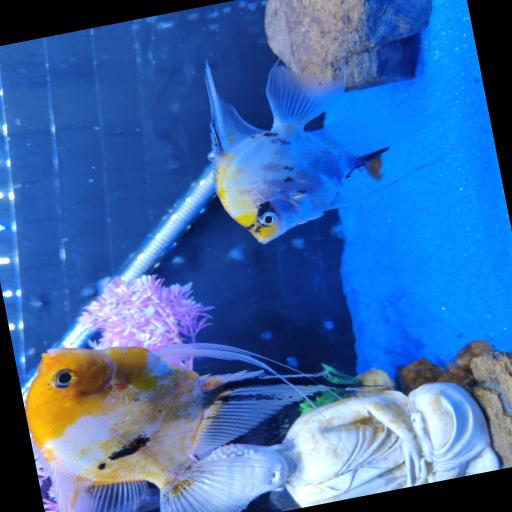Fish: (25, 344, 327, 511), (206, 63, 388, 243)
